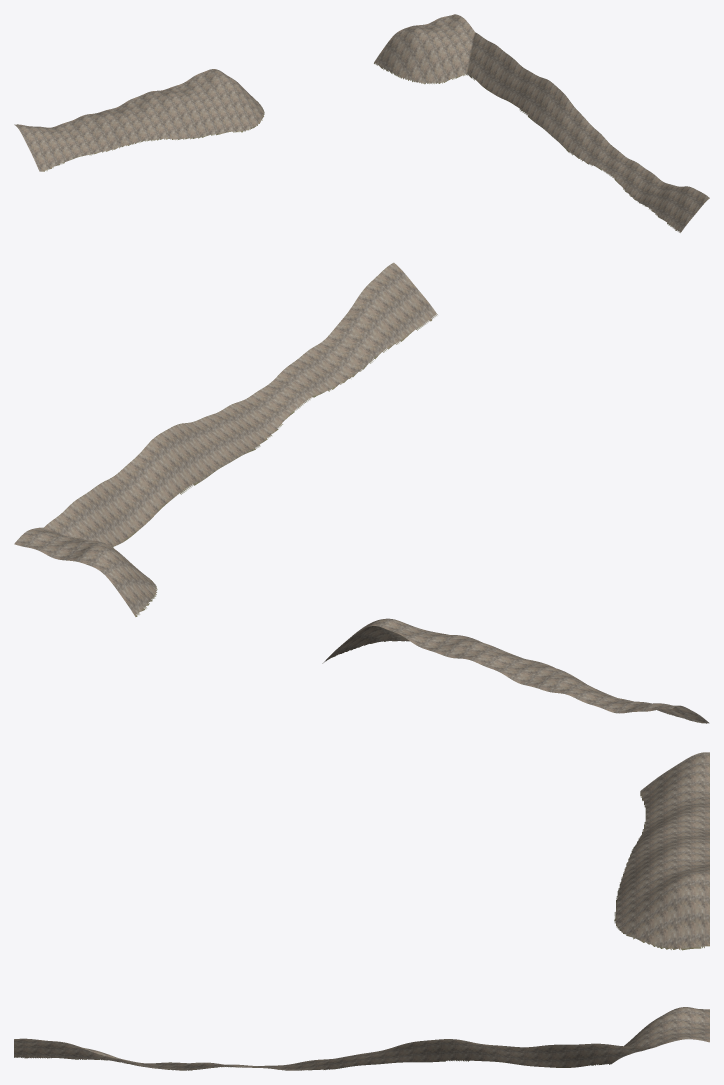
The model's file is rock_visual.dae.
3 renders of one model, top to bottom at view 1: azimuth 30°, elevation 25°; view 2: azimuth 150°, elevation 25°; view 3: azimuth 270°, elevation 25°, orthographic. The views are drawn at different scales.
Visible parts, largest first — view 1: Terrain; view 2: Terrain; view 3: Terrain.
Boxes of the visible parts, <box> form: Terrain: <box>14,14,709,232</box>; Terrain: <box>14,262,709,723</box>; Terrain: <box>14,752,709,1070</box>.
Size of the model in its own units: 1000 by 1000 by 82.52.
1 material, 1 textured.
